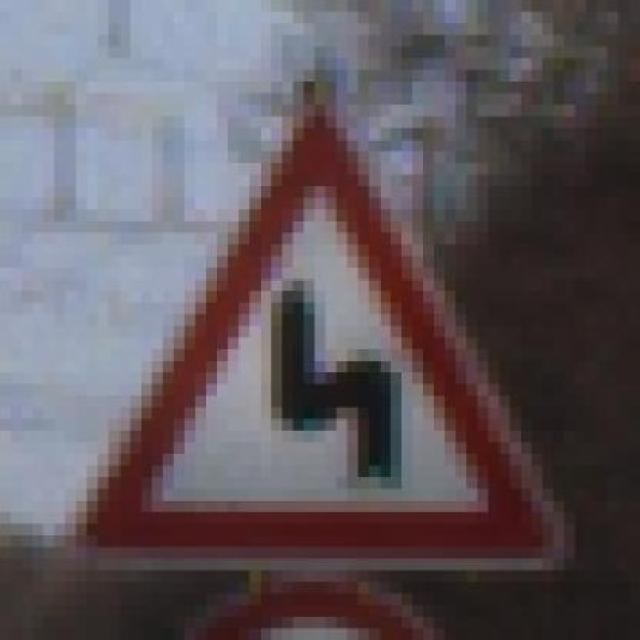Left Zig Zag Traffic: (54, 70, 586, 570)
